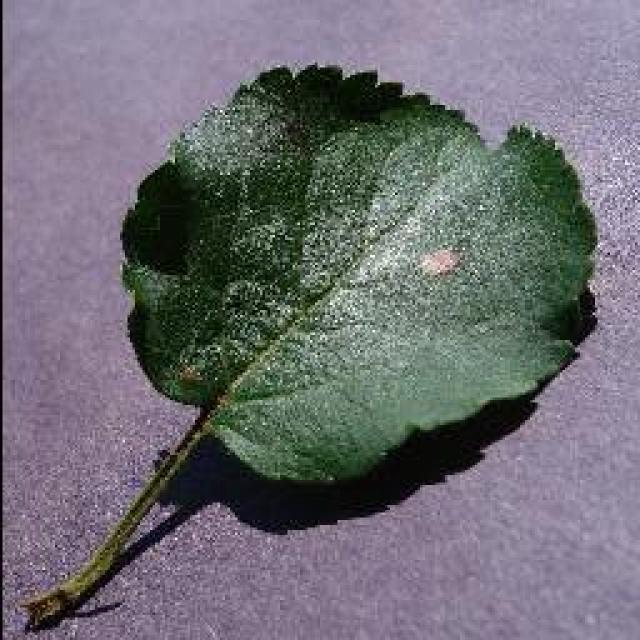Black_rot: (18, 60, 598, 632)
